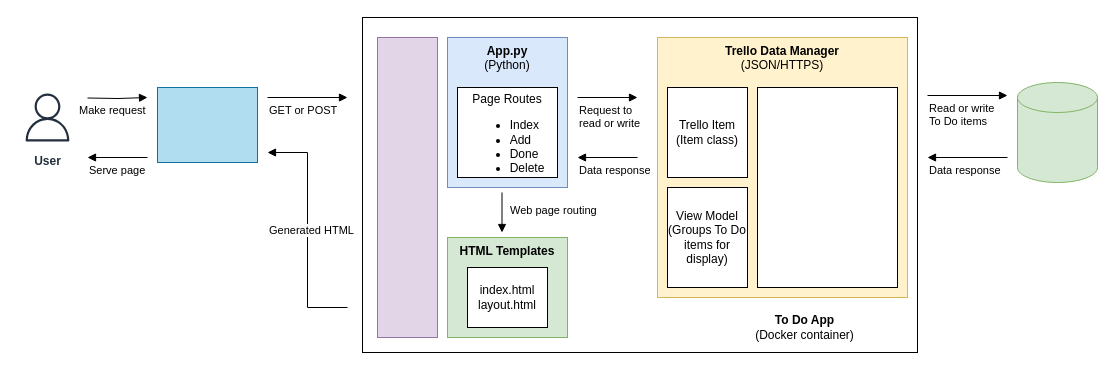
Image size: 1115x370. Some labels were removed from this diagram. Each missing label, with the centre of its shape:
Trello: the point at 1057,132
Trello Functions (call Trello API) get_items add_item update_as_done delete_item: the point at 827,187
Web Browser (HTML): the point at 207,124
Web Server (Gunicorn): the point at 407,187
